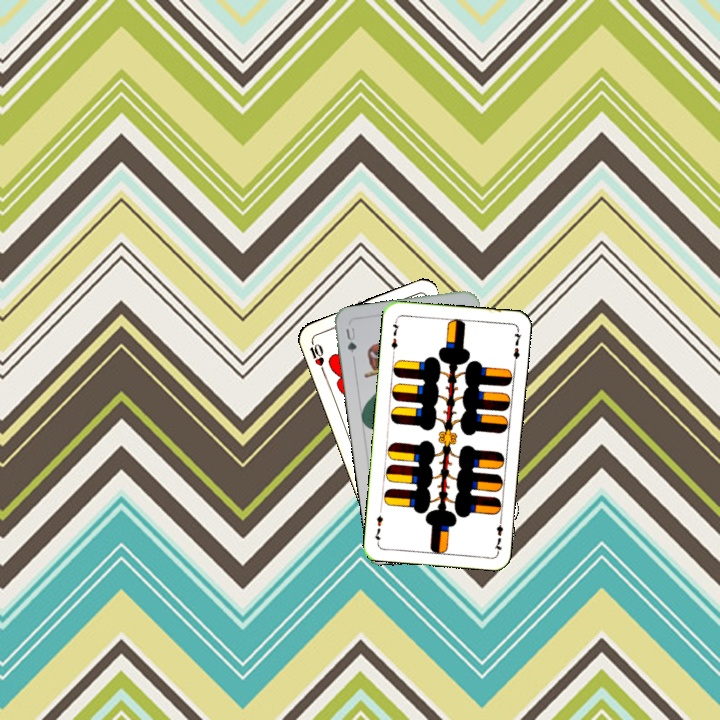E7: (387, 316, 402, 356), (490, 514, 505, 554)
GU: (342, 323, 359, 355)
H10: (305, 335, 327, 375)
